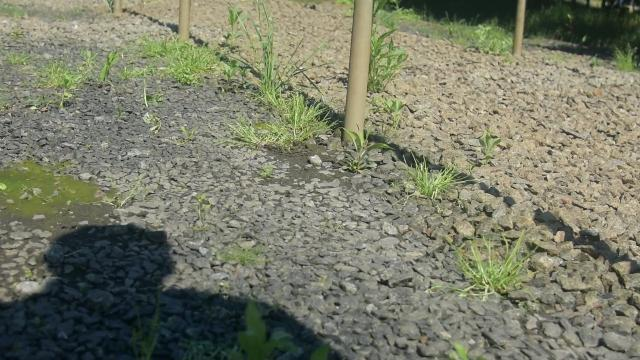MalezaMontesDelPlata: (225, 1, 341, 96), (432, 232, 542, 299), (230, 95, 328, 145), (391, 153, 476, 209), (136, 30, 222, 82), (336, 118, 395, 180), (368, 20, 410, 92), (37, 57, 92, 92), (90, 44, 124, 90), (469, 127, 505, 161), (164, 120, 204, 150), (376, 92, 408, 126), (1, 42, 38, 70)
MusgoMontesDelPlata: (0, 153, 125, 221)
